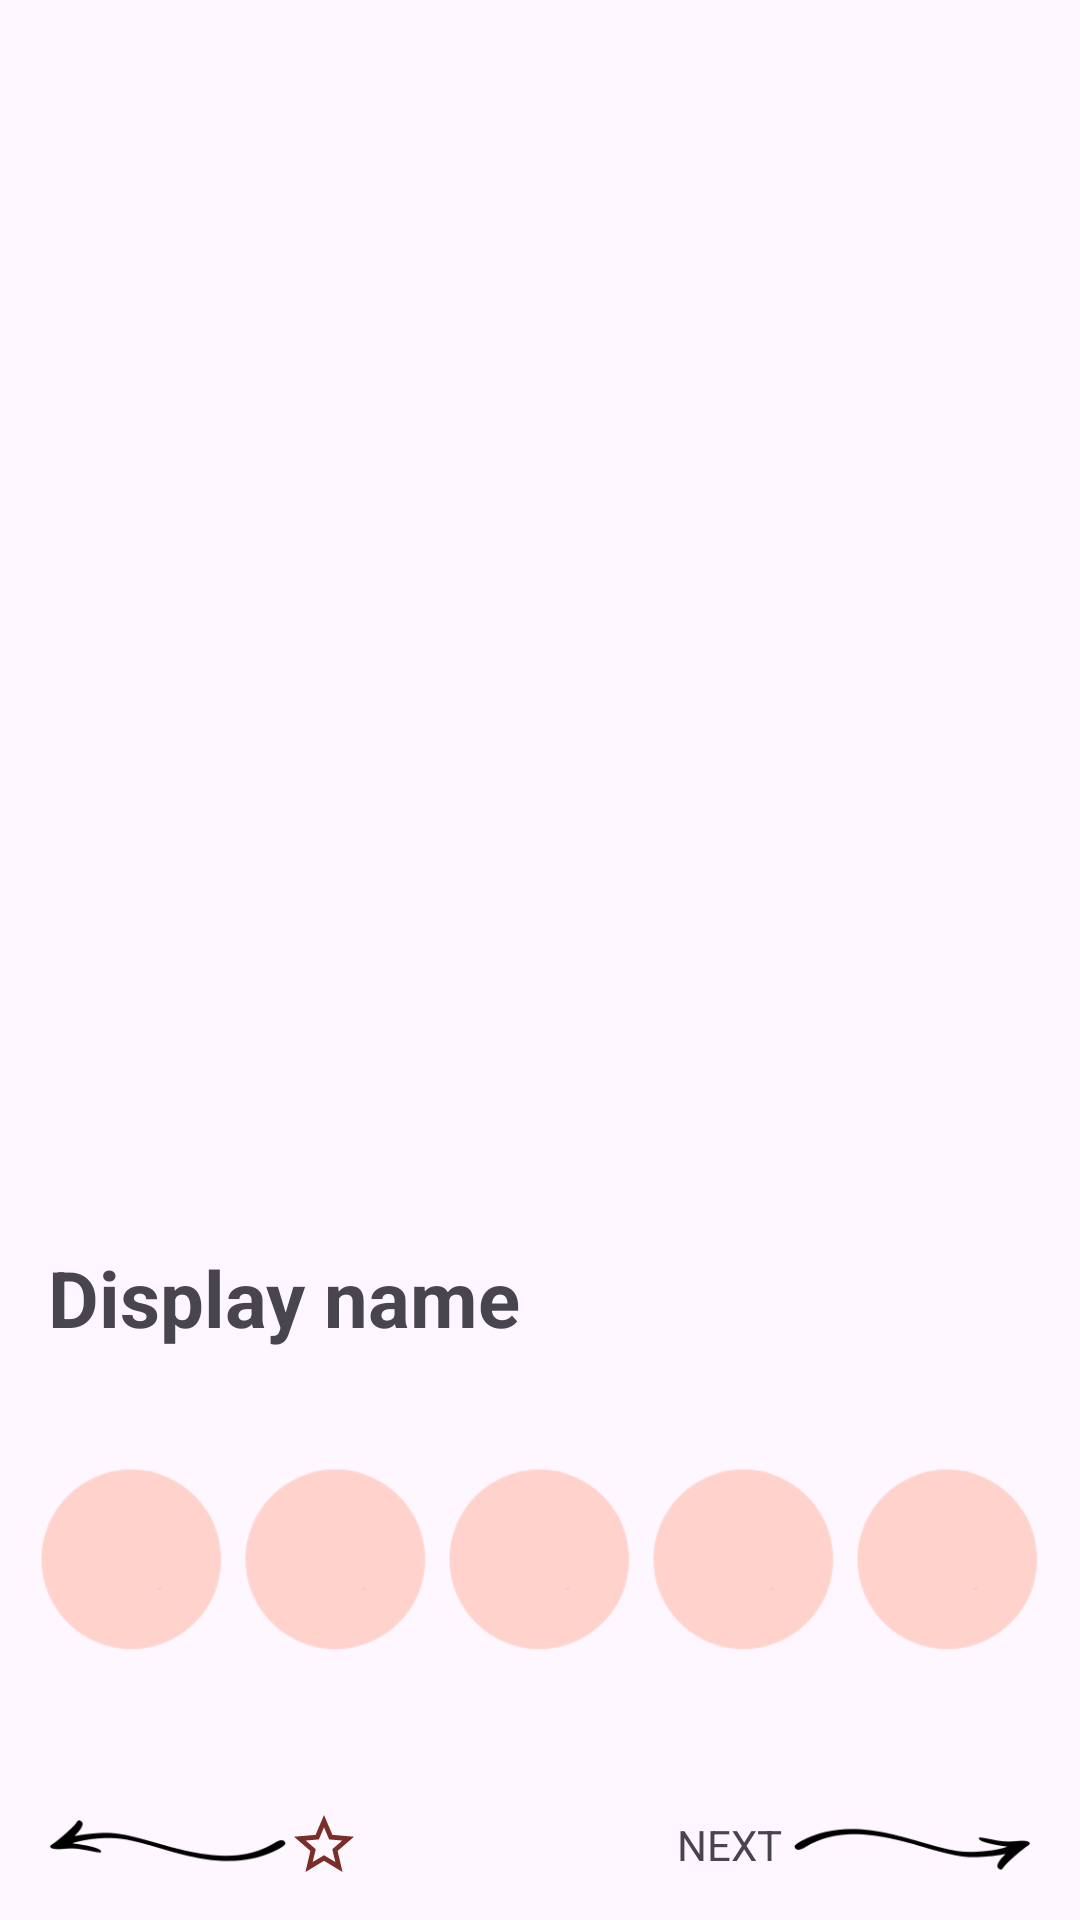

Icon bounding boxes for this 1080 x 1920 phone screenshot, format region(x1, y1, x2, y2):
left swipe: region(50, 1820, 286, 1862)
right swipe: region(794, 1828, 1030, 1870)
star border: region(294, 1815, 354, 1872)
